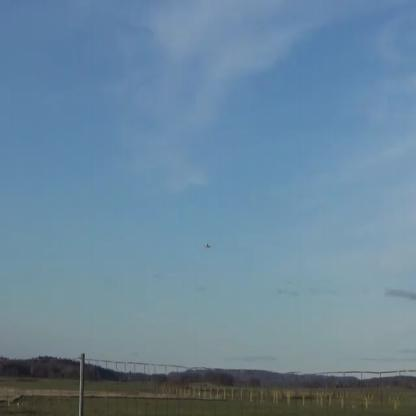CIV_Plane: (204, 239, 212, 253)
